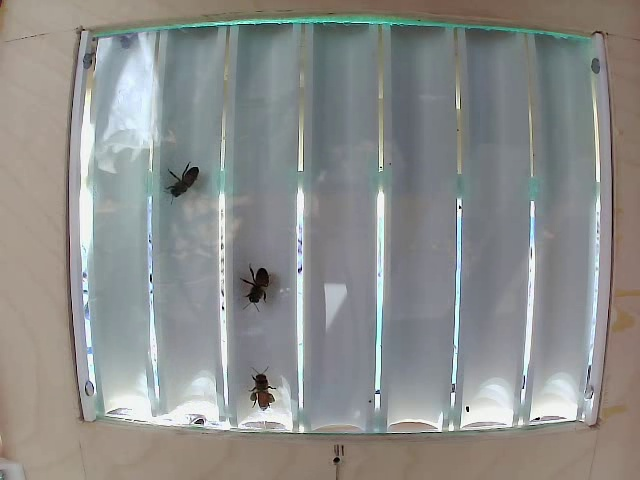bee: (236, 246, 279, 311), (247, 361, 282, 423), (166, 152, 197, 197)
